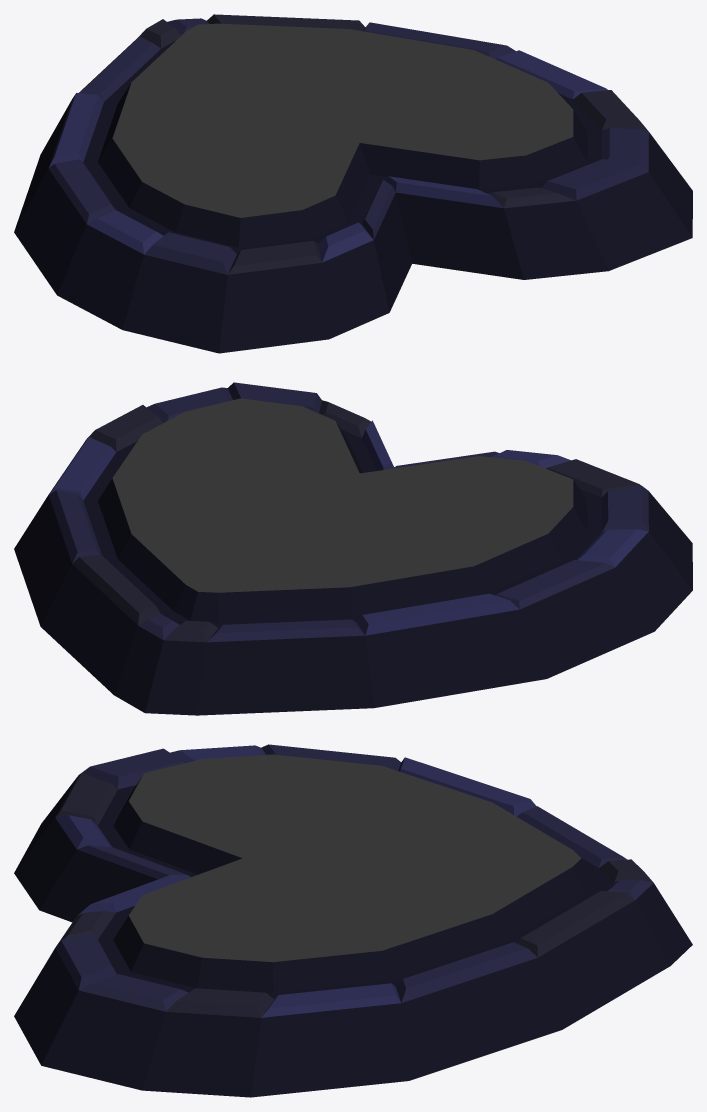
The model's file is Heart Tile.fbx.
3 views of the same model, one above another, from view 1: azimuth 30°, elevation 25°; view 2: azimuth 150°, elevation 25°; view 3: azimuth 270°, elevation 25° (orthographic). The views are drawn at different scales.
Parts seen in each view (by area): view 1: Line002; view 2: Line002; view 3: Line002.
Part boxes in pixels (x1,y1,x2,y2): Line002: (14, 14, 692, 353); Line002: (14, 382, 692, 715); Line002: (14, 744, 692, 1097).
Size of the model in its own units: 146 by 137 by 19.27.
